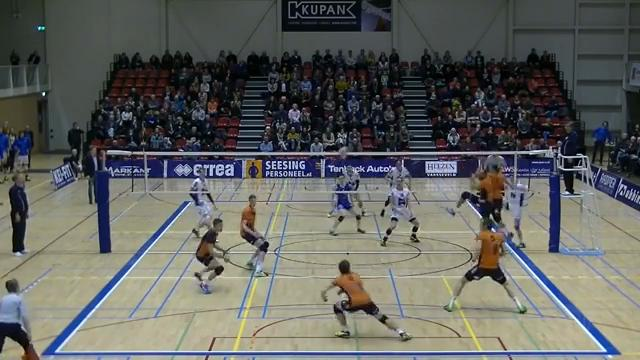muro: (443, 167, 493, 241), (482, 164, 512, 242)
